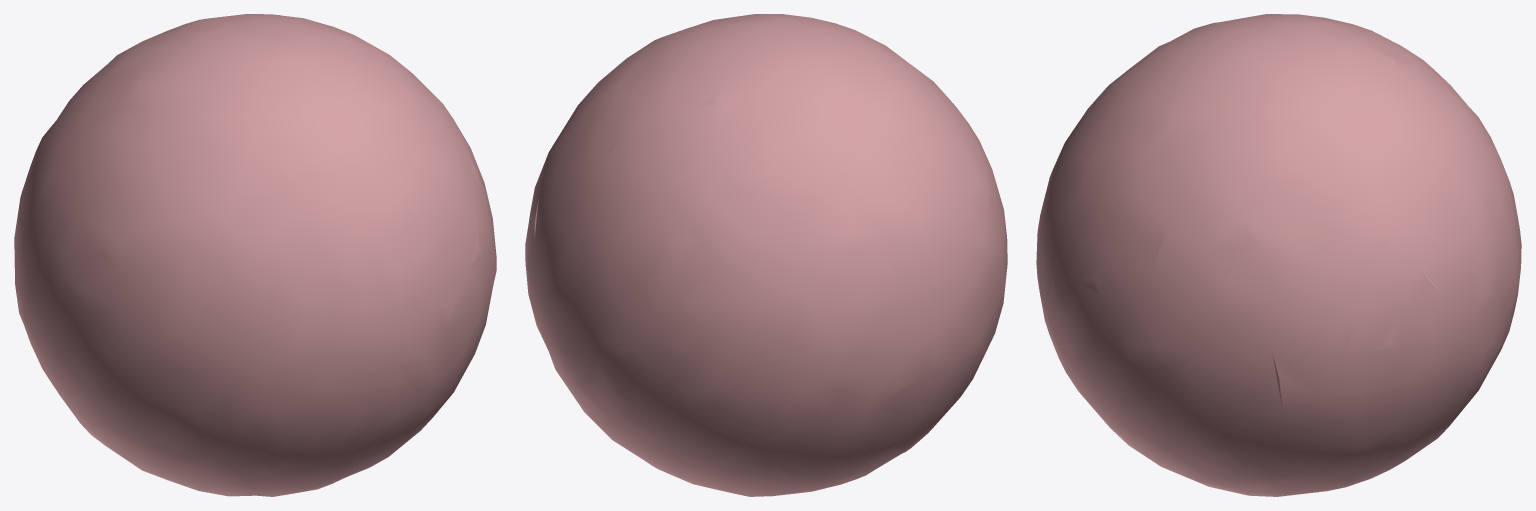
Rendered from fma276287_mm2152.glb.
The picture shows the model from 3 angles, left to right: view 1: azimuth 30°, elevation 25°; view 2: azimuth 150°, elevation 25°; view 3: azimuth 270°, elevation 25°; orthographic projection.
Visible parts, largest first — view 1: FMA276287_MM2152; view 2: FMA276287_MM2152; view 3: FMA276287_MM2152.
Part boxes in pixels (<box>): FMA276287_MM2152: <box>14,14,496,496</box>; FMA276287_MM2152: <box>525,14,1007,496</box>; FMA276287_MM2152: <box>1036,14,1521,496</box>.
Bounding box in the file's own units: 0.00289 × 0.00288 × 0.0029.
